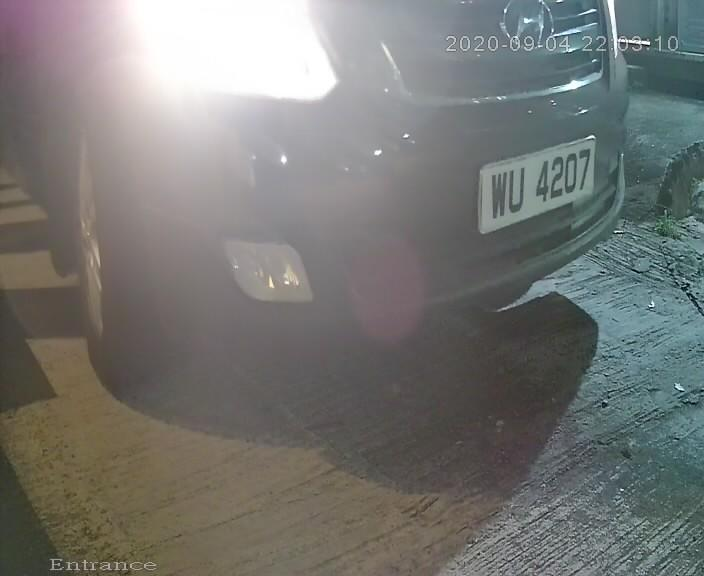License Plate: (472, 127, 604, 245)
